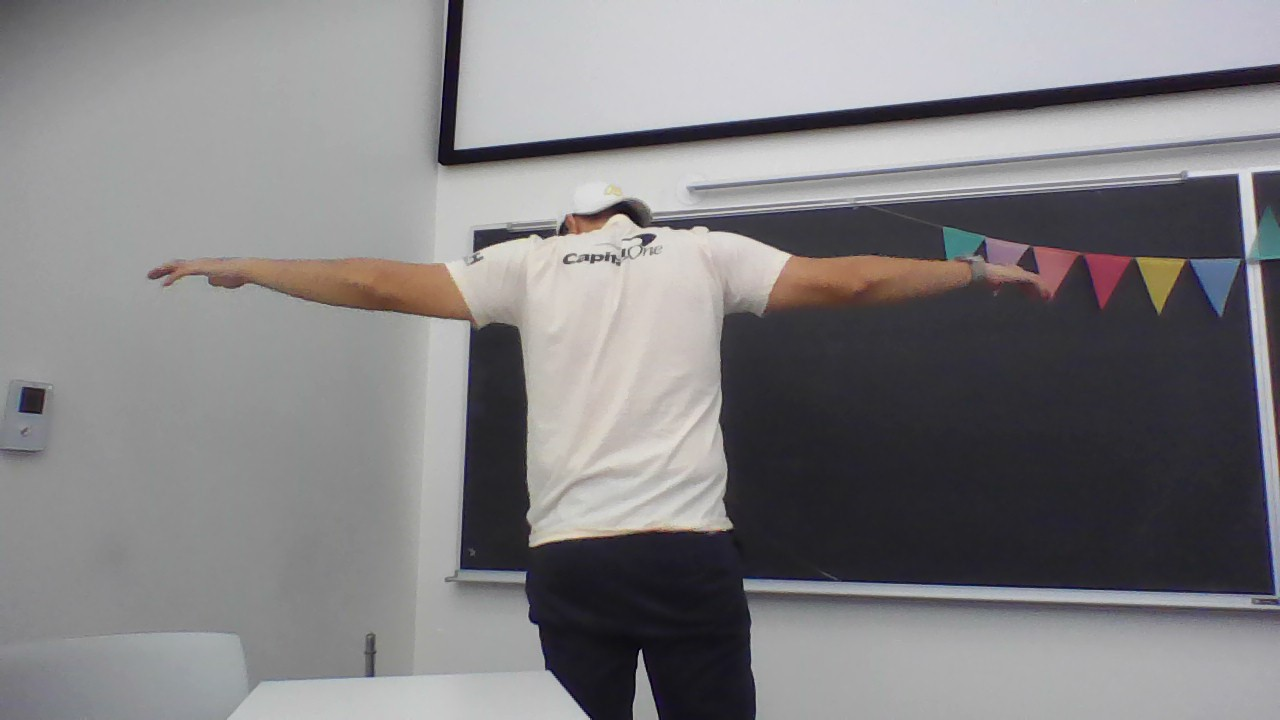height_frame: (495, 176, 780, 717)
hip_frame: (527, 517, 740, 546)
shoulder_frame: (517, 241, 721, 268)
waist_frame: (528, 415, 722, 447)
